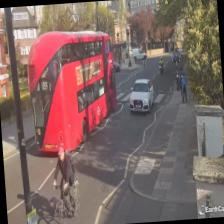person: (50, 145, 76, 216)
